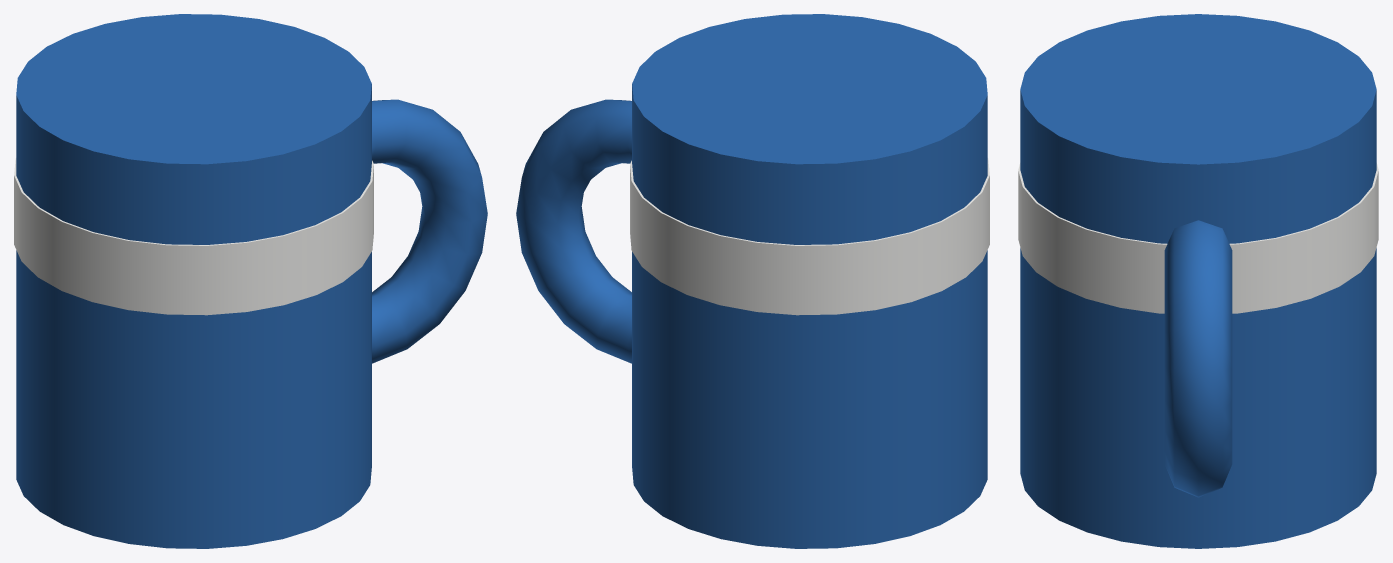
Rendered from mug.fbx.
3 views of the same model, side by side, from view 1: azimuth 30°, elevation 25°; view 2: azimuth 150°, elevation 25°; view 3: azimuth 270°, elevation 25° (orthographic).
Visible parts, largest first — view 1: Mug; view 2: Mug; view 3: Mug.
Part boxes in pixels (left/top/right/bottom): Mug: left=14, top=14, right=487, bottom=548; Mug: left=516, top=14, right=989, bottom=548; Mug: left=1018, top=14, right=1378, bottom=548.
Size of the model in its own units: 0.1215 by 0.1 by 0.085.
